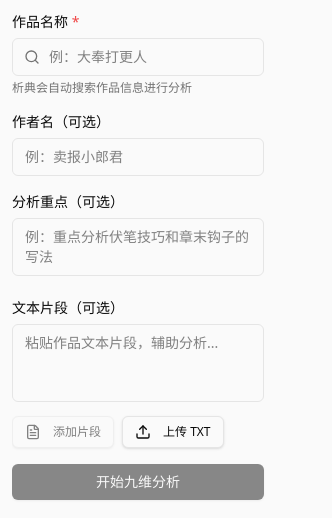
Test: AnalysisSubmitForm › enables submit when workTitle is filled
In the field labelled "作品名称 *": (138,57) [12,38,264,76], type "大奉打更人"
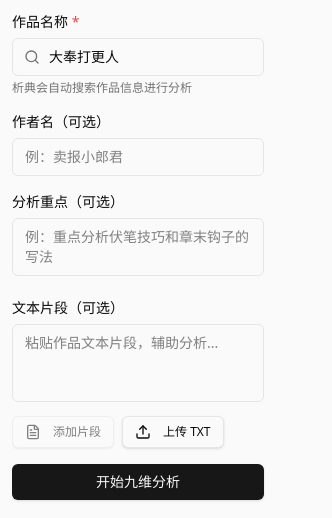
Check: the button "开始九维分析" is enabled, box [12,464,264,500]
